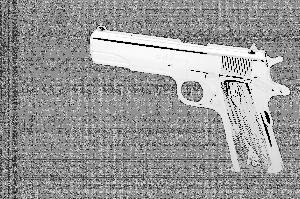handgun: (81, 29, 293, 182)
